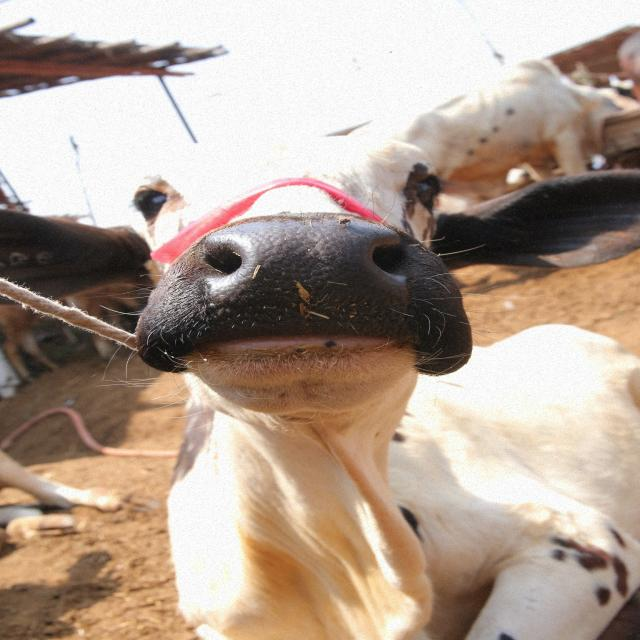muzzles: (136, 214, 445, 366)
